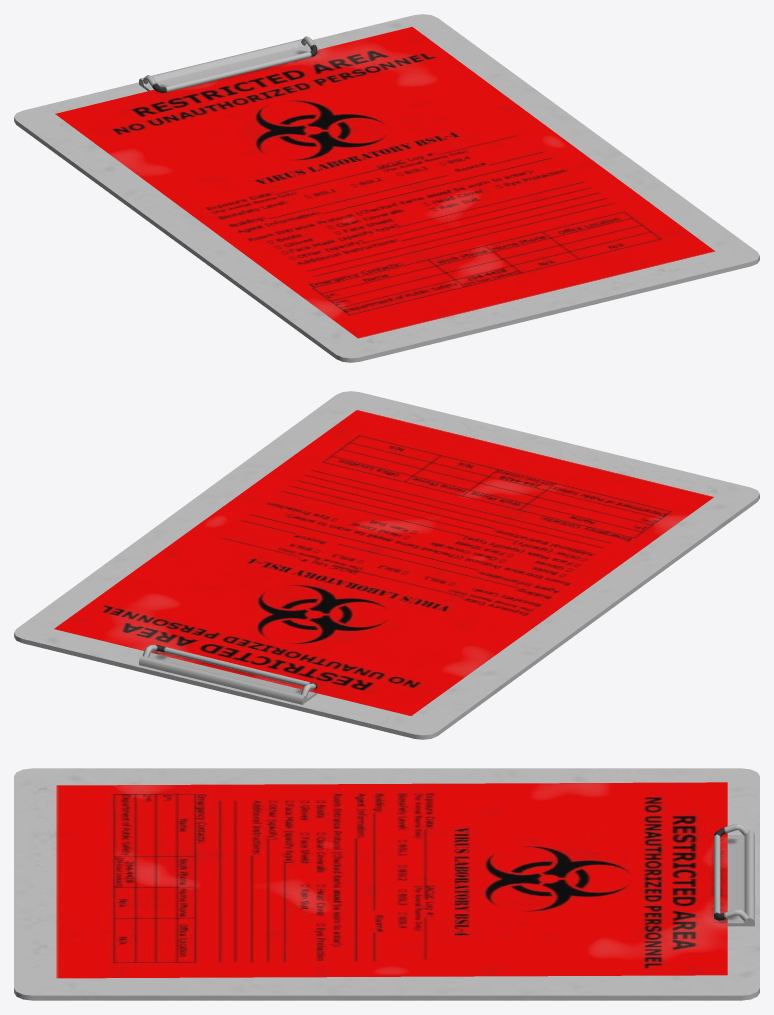
The model's file is Information_paper_NakedSingularity.fbx.
3 renders of one model, top to bottom at view 1: azimuth 30°, elevation 25°; view 2: azimuth 150°, elevation 25°; view 3: azimuth 270°, elevation 25°, orthographic. The views are drawn at different scales.
Parts seen in each view (by area): view 1: Informartion_paper_NakedSingularity; view 2: Informartion_paper_NakedSingularity; view 3: Informartion_paper_NakedSingularity.
Boxes of the visible parts, <box> form: Informartion_paper_NakedSingularity: <box>14,14,759,362</box>; Informartion_paper_NakedSingularity: <box>14,391,759,739</box>; Informartion_paper_NakedSingularity: <box>14,768,759,1000</box>.
Bounding box in the file's own units: 22.68 × 0.9362 × 31.44.
1 material, 1 textured.
